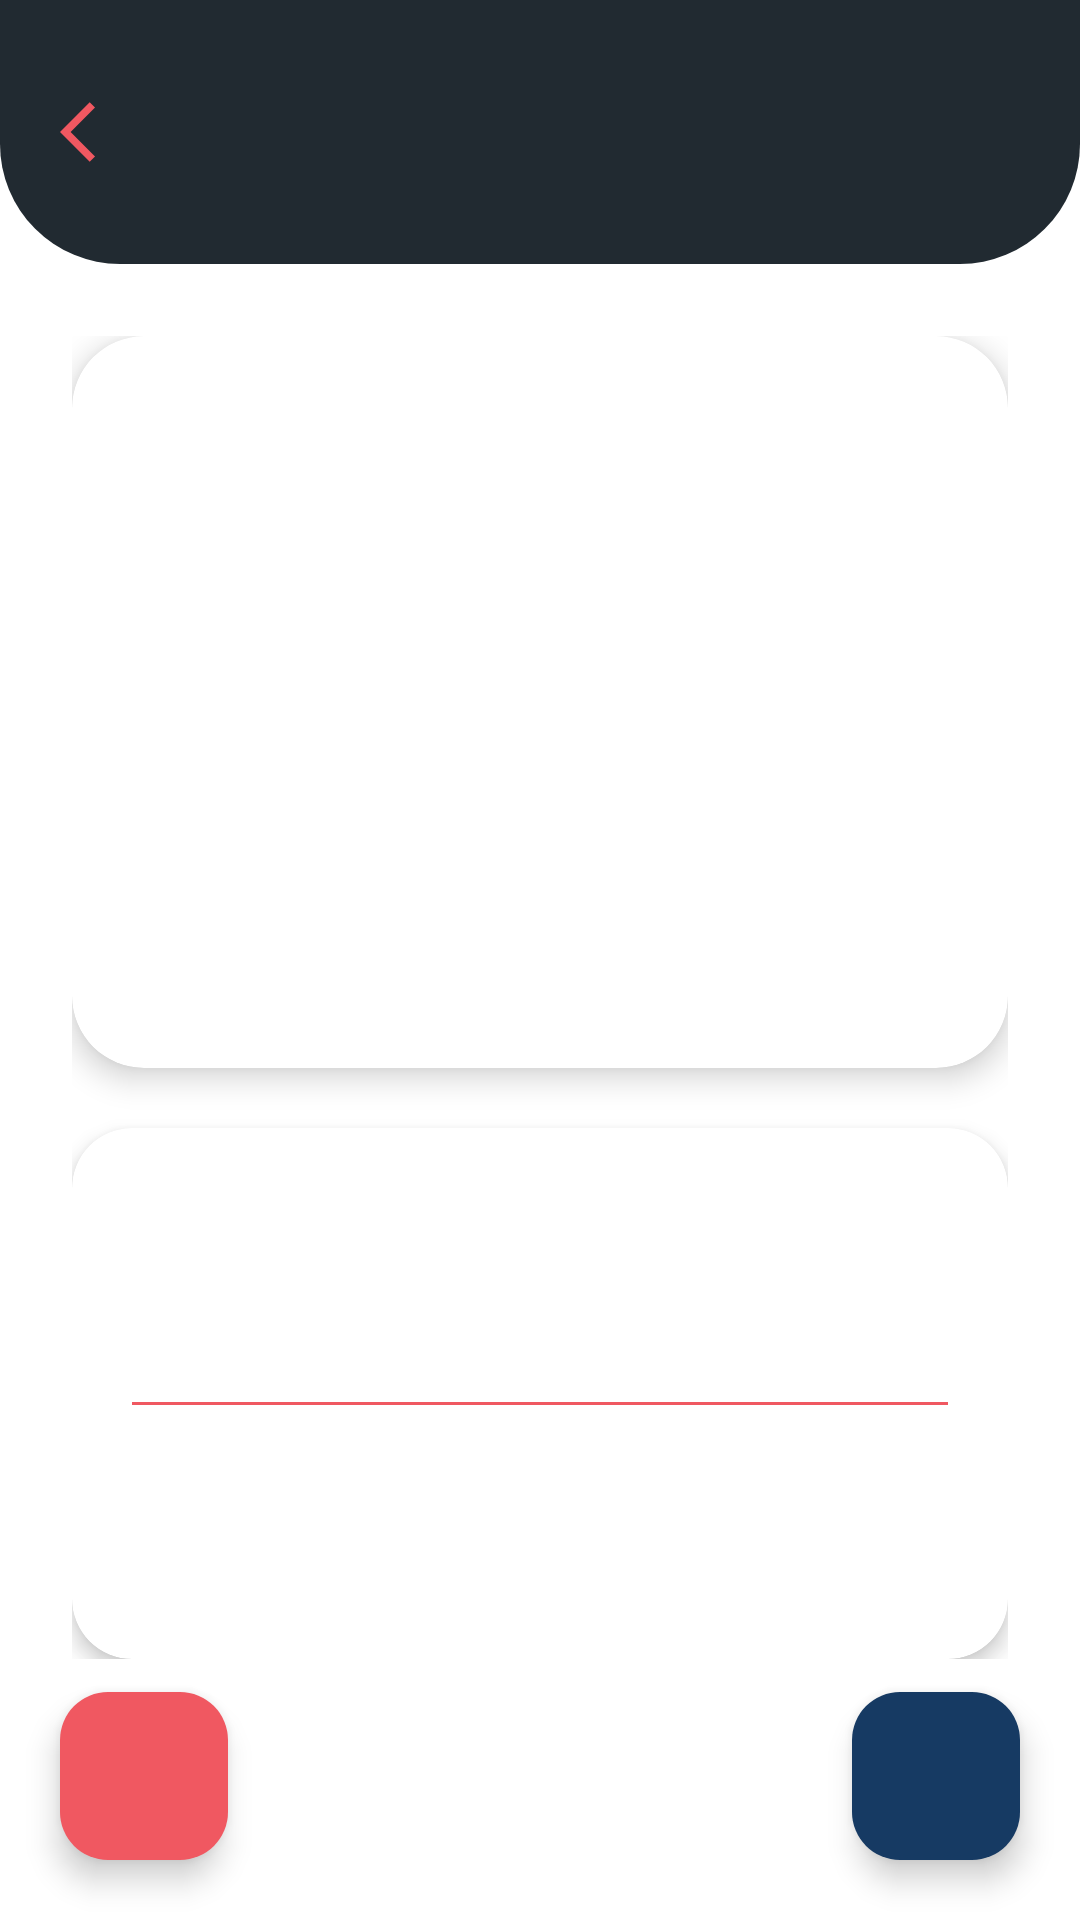

Where to tap for icons on this 1080 x 1920 app screen, as point (x, y):
Atrás: point (77, 132)
